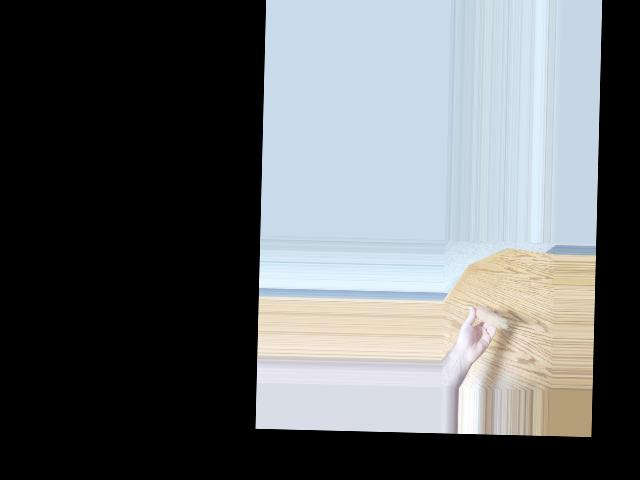sweet_potato: (472, 306, 509, 331)
